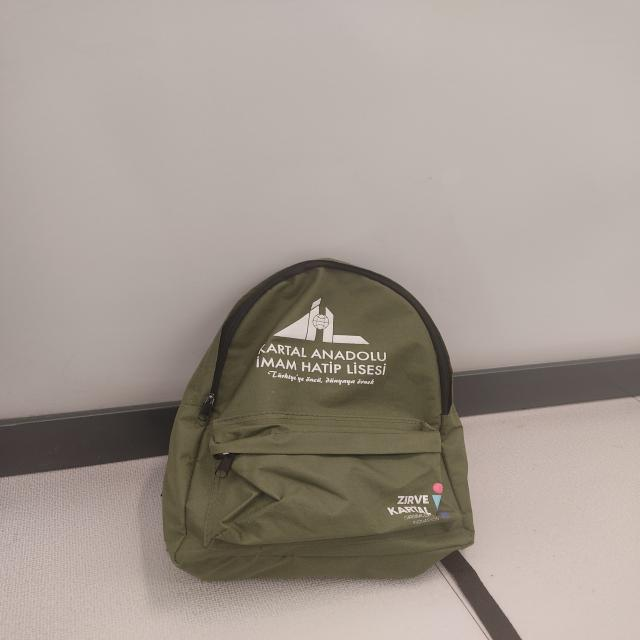bag: (158, 256, 488, 585)
